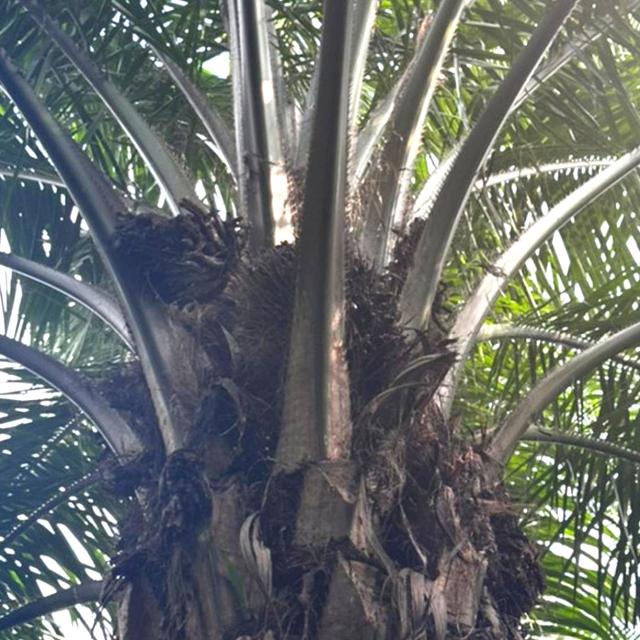almost: (235, 233, 405, 396)
